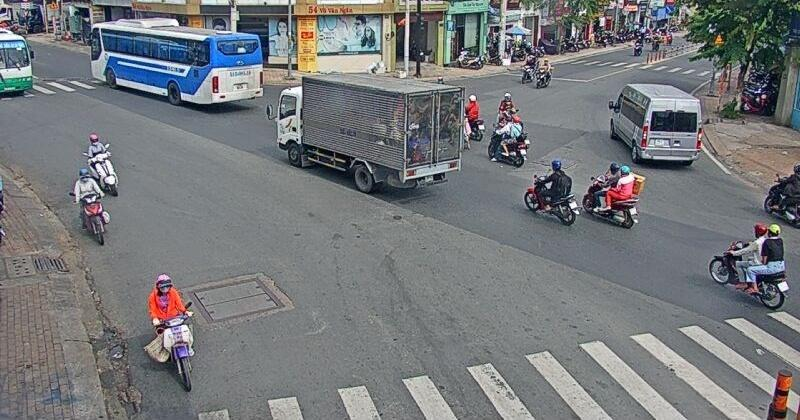xe buyt: (90, 19, 263, 104)
xe may: (708, 222, 789, 309), (147, 274, 193, 392), (581, 162, 645, 229), (523, 161, 580, 226), (68, 168, 107, 245), (82, 133, 119, 197), (486, 112, 527, 169)
xe tai: (277, 73, 464, 194)
xe van: (608, 84, 699, 161)
